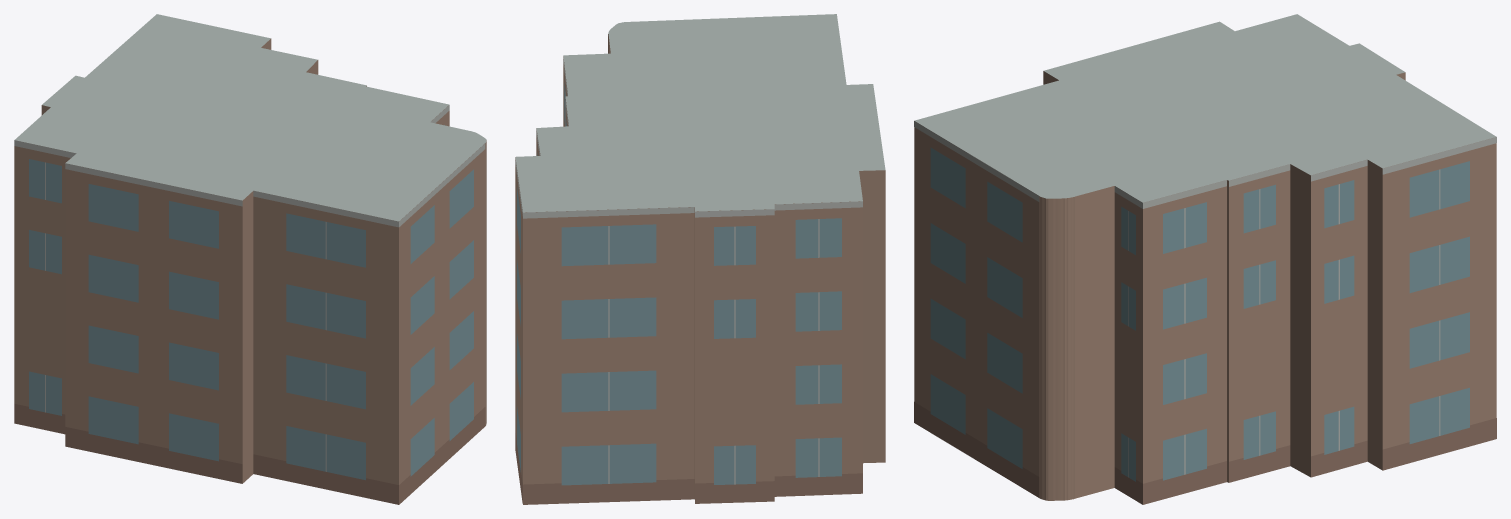
File: survey-upis-32671801.glb
3 renders of one model, left to right at view 1: azimuth 30°, elevation 25°; view 2: azimuth 150°, elevation 25°; view 3: azimuth 270°, elevation 25°, orthographic. The views are drawn at different scales.
Visible parts, largest first — view 1: survey-upis-32671801.tmp; view 2: survey-upis-32671801.tmp; view 3: survey-upis-32671801.tmp.
Boxes of the visible parts, <box> form: survey-upis-32671801.tmp: <box>14,14,486,504</box>; survey-upis-32671801.tmp: <box>515,14,885,504</box>; survey-upis-32671801.tmp: <box>914,14,1496,504</box>.
Size of the model in its own units: 15.68 by 11.7 by 20.46.
